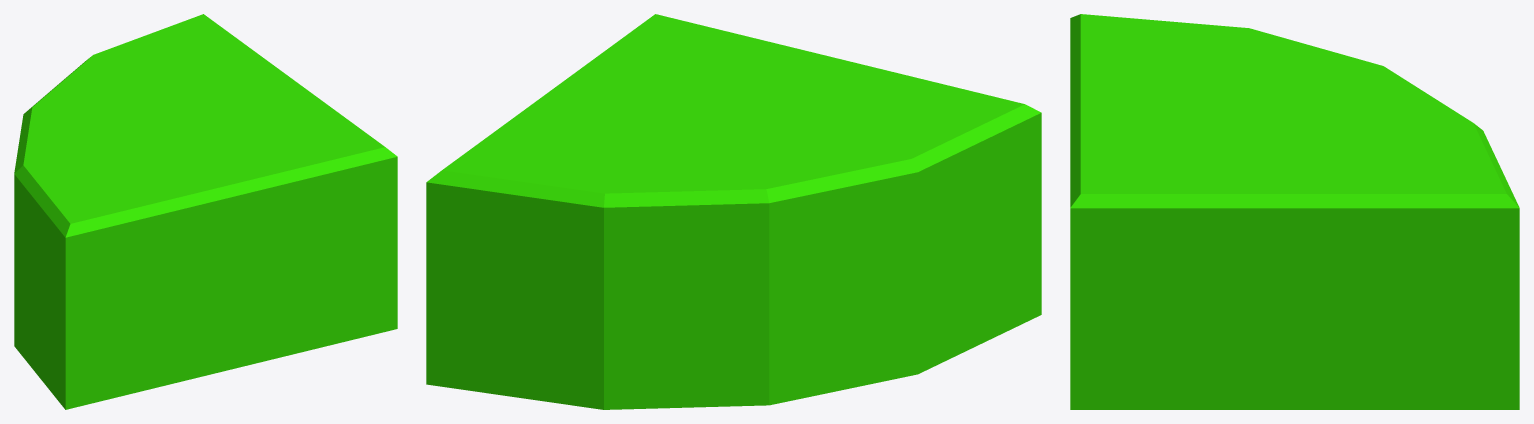
The model's file is round_2x1_02.fbx.
3 views of the same model, side by side, from view 1: azimuth 30°, elevation 25°; view 2: azimuth 150°, elevation 25°; view 3: azimuth 270°, elevation 25° (orthographic). The views are drawn at different scales.
Parts seen in each view (by area): view 1: round_2x1_02; view 2: round_2x1_02; view 3: round_2x1_02.
Boxes of the visible parts, box(x1,y1,x2,y2) form: round_2x1_02: box(14, 14, 397, 409); round_2x1_02: box(426, 14, 1041, 409); round_2x1_02: box(1070, 14, 1519, 409).
Size of the model in its own units: 212 by 110 by 212.
